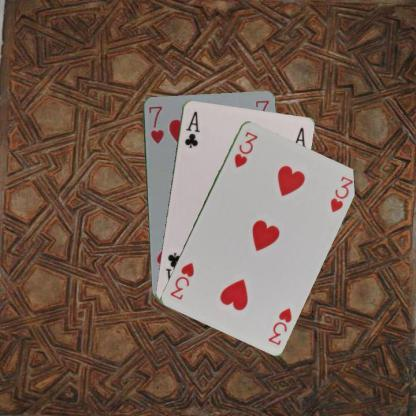3h: (231, 128, 260, 169), (265, 304, 292, 347)
7h: (146, 102, 164, 144)
Ac: (181, 108, 201, 150)
